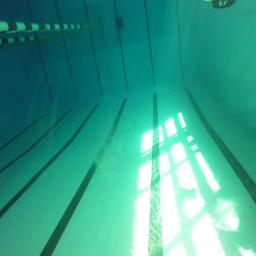Full: (212, 0, 236, 10)
